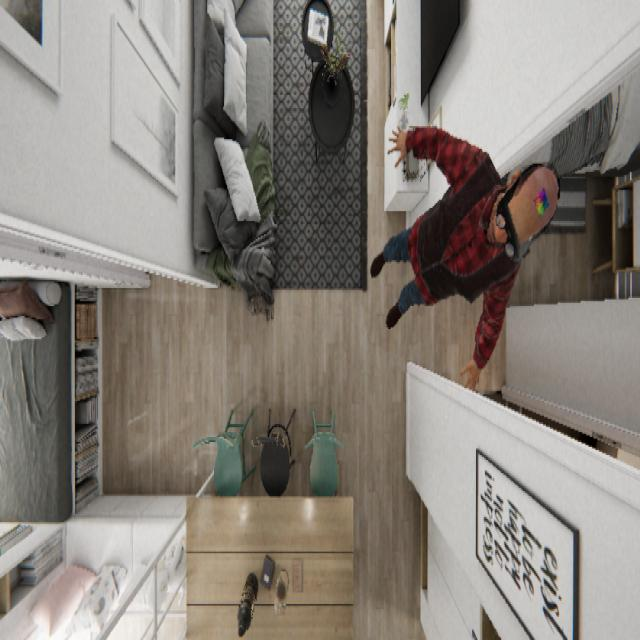Colored-Marker: (532, 183, 550, 218)
Human: (369, 121, 560, 393)
